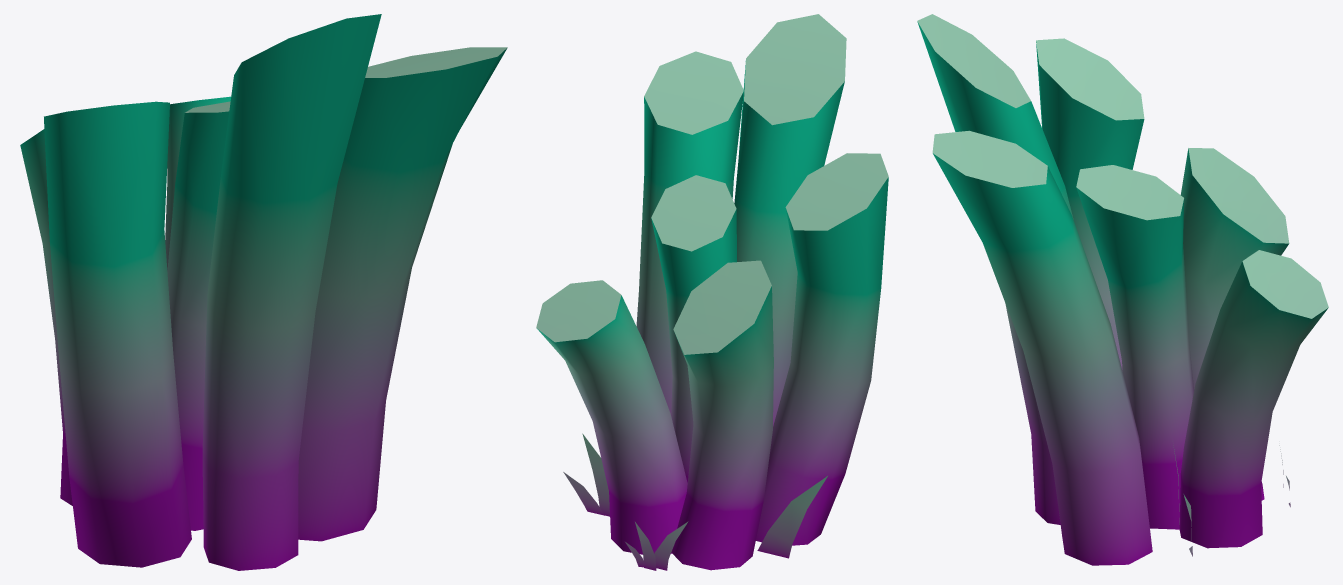
File: obstacle-pipe_plants_H2.glb
3 renders of one model, left to right at view 1: azimuth 30°, elevation 25°; view 2: azimuth 150°, elevation 25°; view 3: azimuth 270°, elevation 25°, orthographic. The views are drawn at different scales.
Visible parts, largest first — view 1: obstacle-pipe_plants_H2; view 2: obstacle-pipe_plants_H2; view 3: obstacle-pipe_plants_H2.
Boxes of the visible parts, left/top/right/bottom form: obstacle-pipe_plants_H2: left=20, top=14, right=507, bottom=570; obstacle-pipe_plants_H2: left=536, top=14, right=888, bottom=570; obstacle-pipe_plants_H2: left=917, top=14, right=1328, bottom=565.
Bounding box in the file's own units: 2.88 × 4.38 × 3.33.
